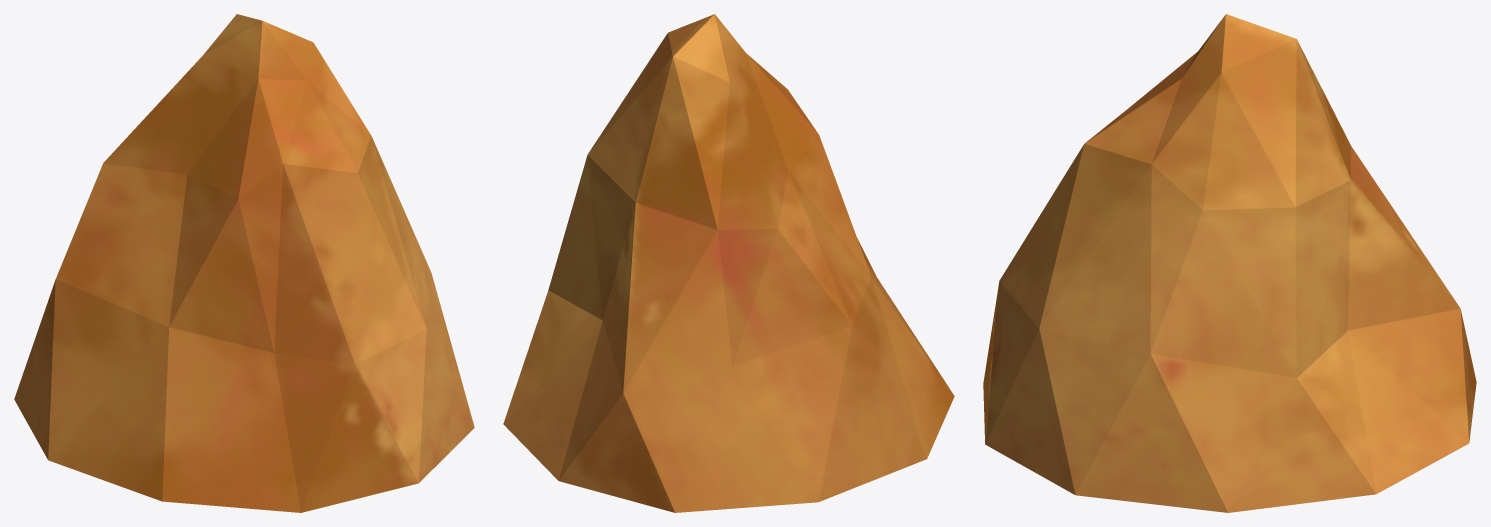
The model's file is Stone2.fbx.
The picture shows the model from 3 angles, left to right: view 1: azimuth 30°, elevation 25°; view 2: azimuth 150°, elevation 25°; view 3: azimuth 270°, elevation 25°; orthographic projection. The views are drawn at different scales.
Parts seen in each view (by area): view 1: Stone2; view 2: Stone2; view 3: Stone2.
Part boxes in pixels (x1,y1,x2,y2): Stone2: (14, 14, 474, 512); Stone2: (503, 14, 954, 512); Stone2: (983, 14, 1476, 512).
Size of the model in its own units: 0.3222 by 0.309 by 0.3377.
